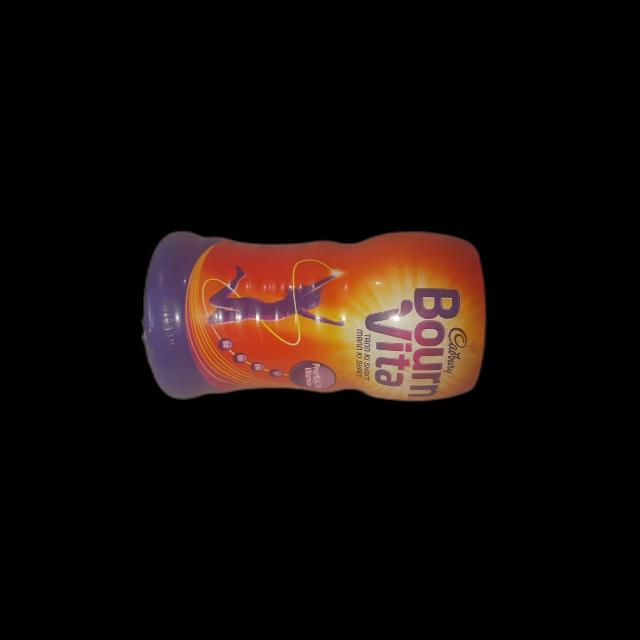Cadbury Bournvita Chocolate Health Drink-1kg-: (142, 224, 498, 402)
